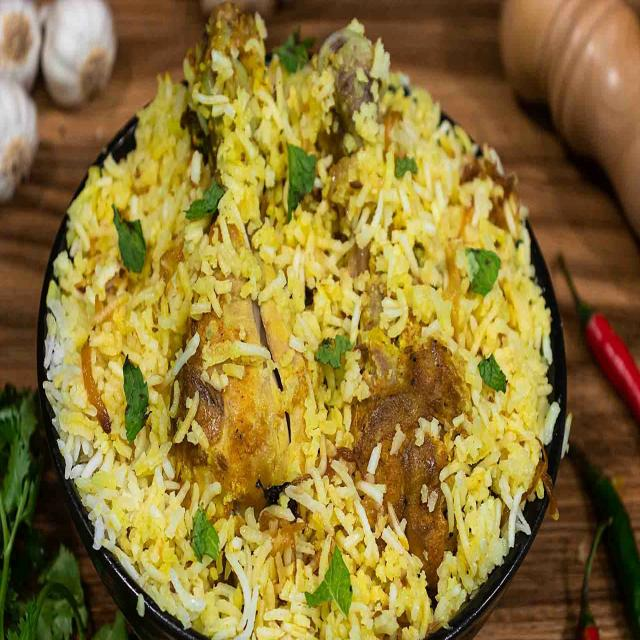Biryani: (46, 18, 553, 640)
